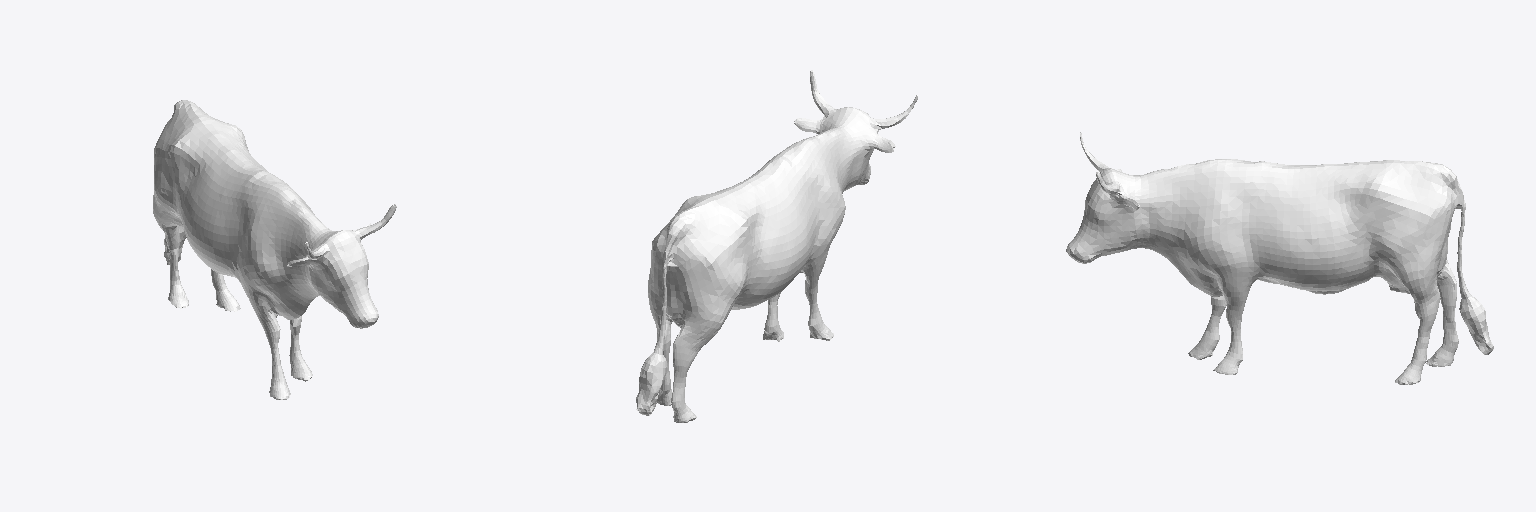
File: cow_2.obj
3 renders of one model, left to right at view 1: azimuth 30°, elevation 25°; view 2: azimuth 150°, elevation 25°; view 3: azimuth 270°, elevation 25°, orthographic.
Visible parts, largest first — view 1: cow2; view 2: cow2; view 3: cow2.
Part boxes in pixels (x1,y1,x2,y2): cow2: (153,100,396,399); cow2: (636,70,917,422); cow2: (1066,132,1493,384).
Bounding box in the file's own units: 329 × 671 × 1208.